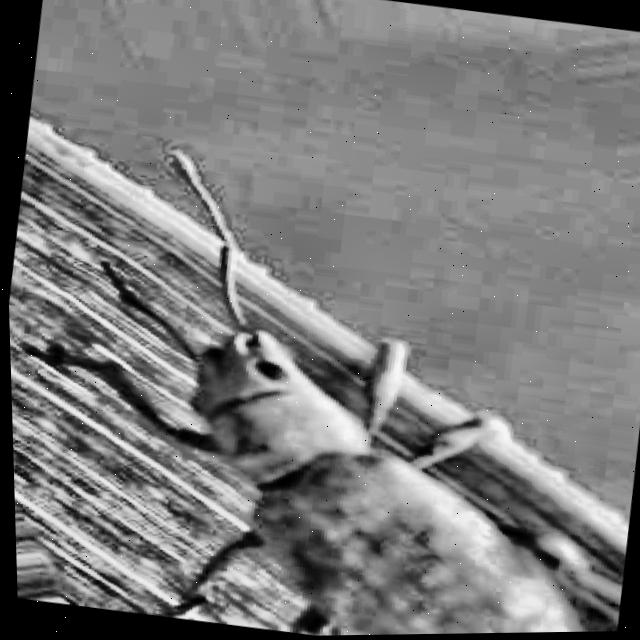Stink bug: (18, 238, 640, 640)
